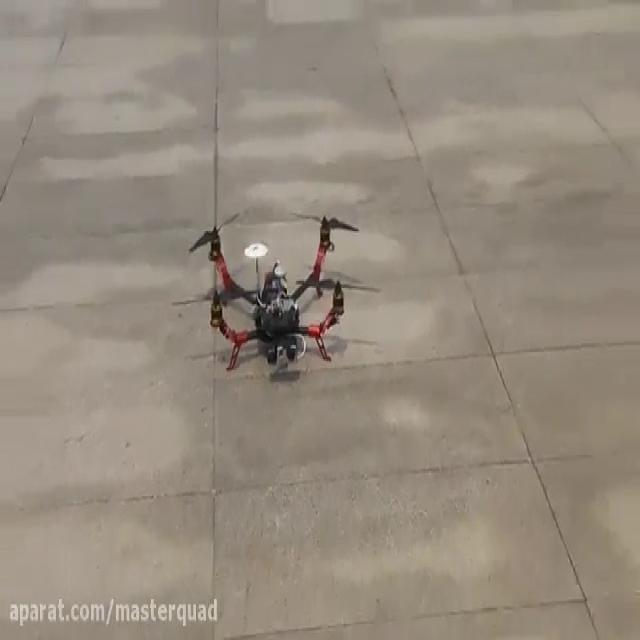drone: (170, 204, 382, 376)
